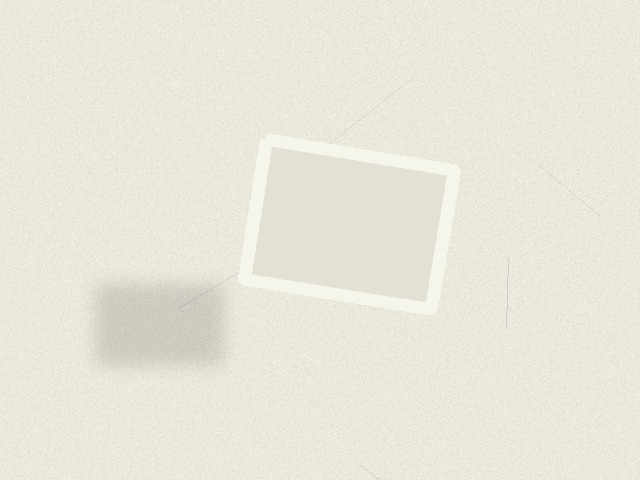parking_area: (244, 139, 454, 309)
